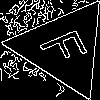F: (38, 22, 97, 70)
